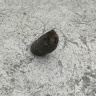Dog: (30, 29, 60, 57)
